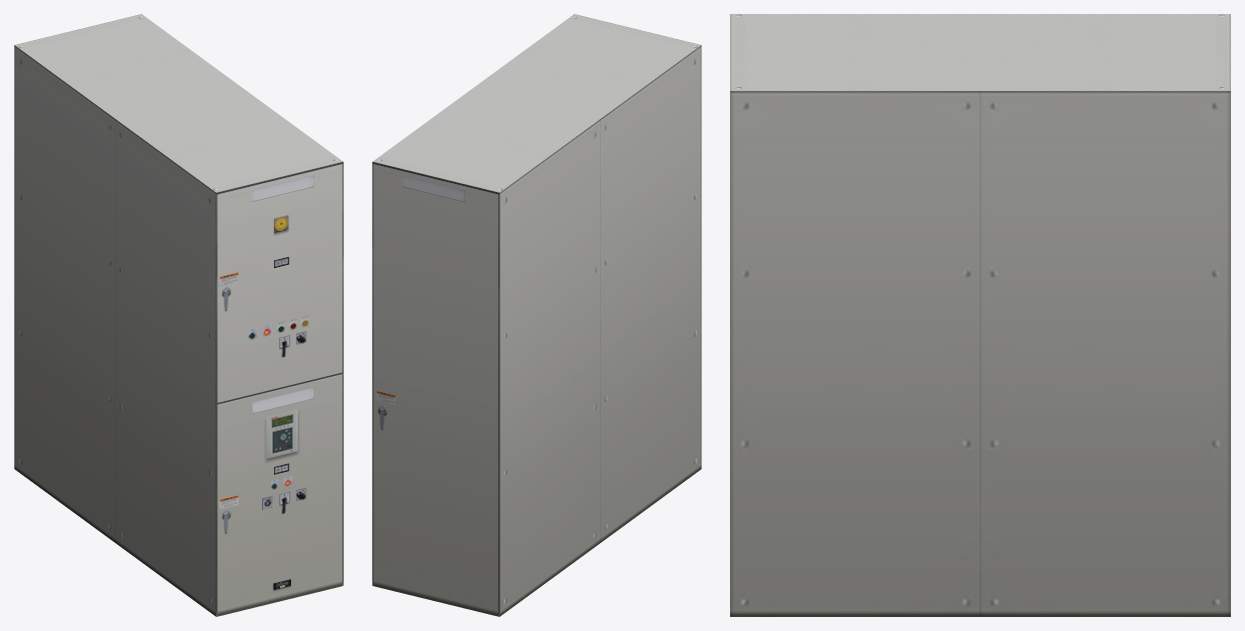
3 views of the same model, side by side, from view 1: azimuth 30°, elevation 25°; view 2: azimuth 150°, elevation 25°; view 3: azimuth 270°, elevation 25° (orthographic). The views are drawn at different scales.
Parts seen in each view (by area): view 1: LV-H1-D013; view 2: LV-H1-D013; view 3: LV-H1-D013.
Boxes of the visible parts, x1,y1,x2,y2 form: LV-H1-D013: [14, 14, 343, 616]; LV-H1-D013: [372, 14, 701, 616]; LV-H1-D013: [730, 14, 1230, 616].
Size of the model in its own units: 0.8 by 2.55 by 2.2.
Materials: 1 (1 with a texture image).
